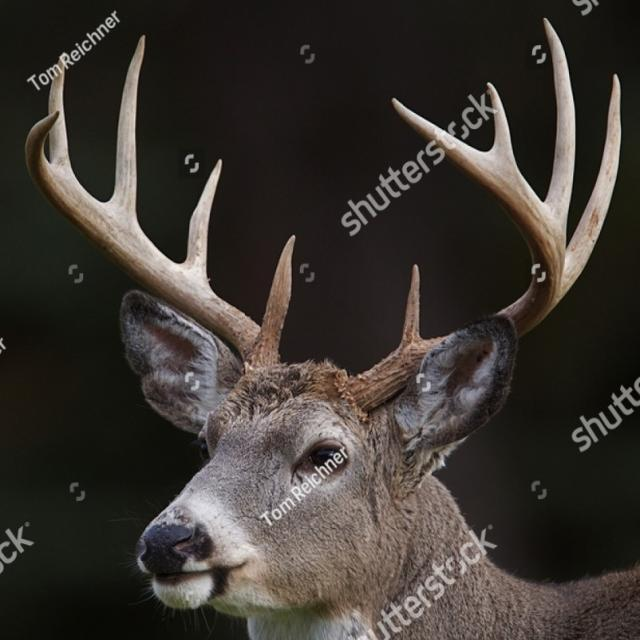L-G1: (399, 263, 422, 348)
L-G2: (562, 74, 621, 299)
L-G3: (542, 17, 576, 249)
R-G1: (260, 234, 296, 350)
R-G2: (181, 158, 222, 287)
R-G3: (111, 34, 146, 219)
R-G4: (49, 52, 71, 168)
